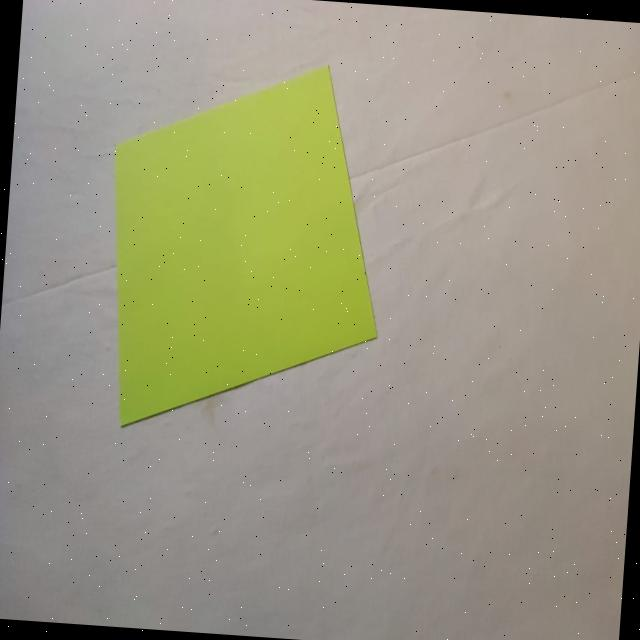Boxes: (111, 64, 377, 429)
